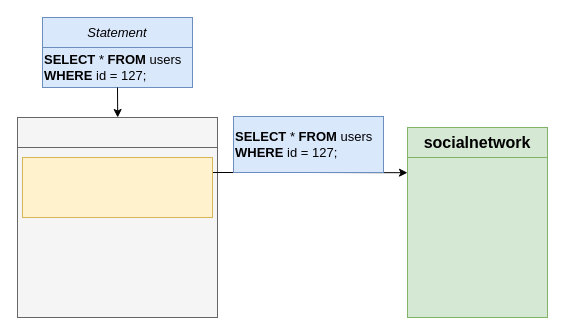
The diagram is 565 pixels wide and 335 high, and some of its shapes have lost their labels. The centre of each missing label's shape, as x and y in pixels:
"PG" goes at pixel 117 132.
"Run the query" goes at pixel 117 187.
